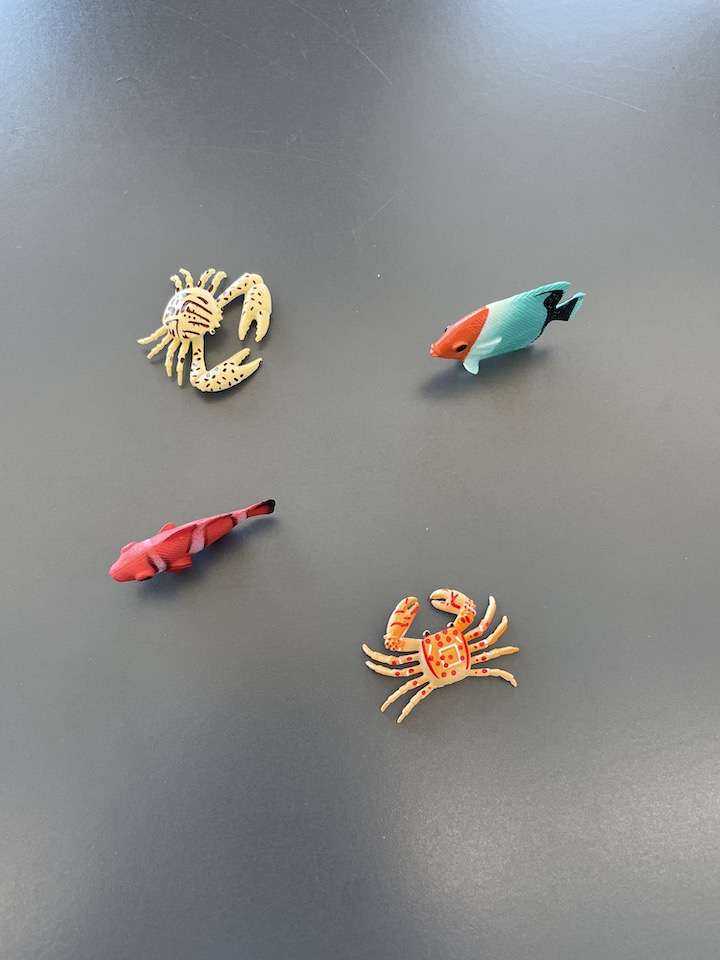crab: (358, 584, 528, 719), (134, 264, 276, 397)
fish: (425, 278, 589, 378), (106, 499, 285, 589)
